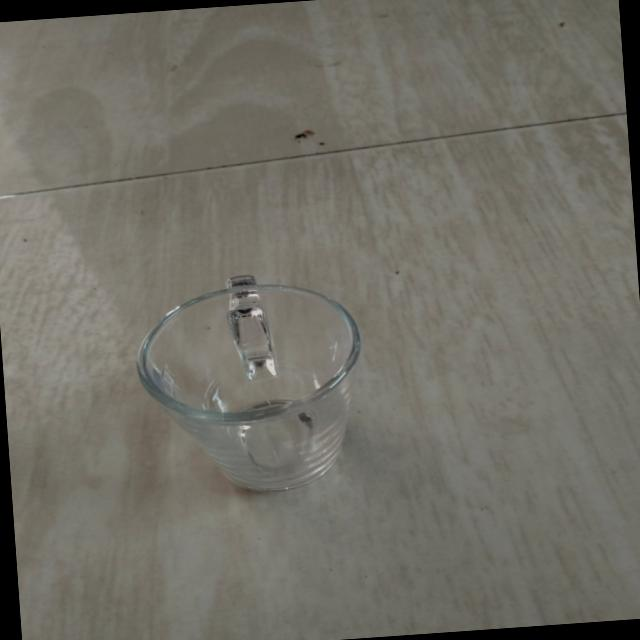glass-VX4N: (128, 268, 368, 500)
